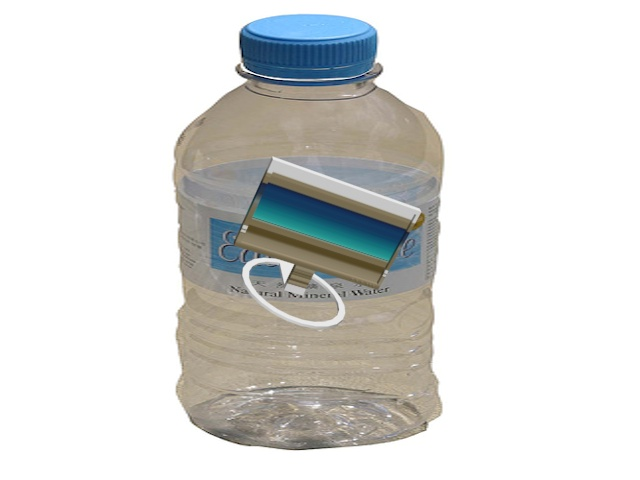monitor: (224, 153, 424, 336)
